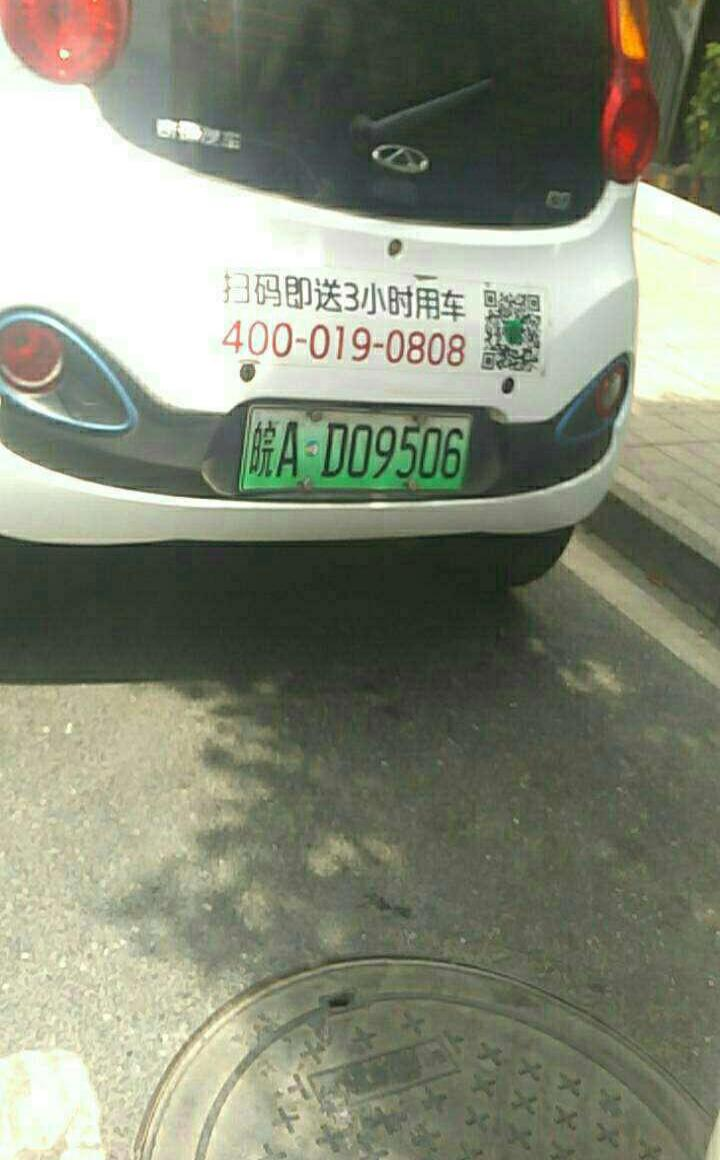car_id: (226, 404, 468, 488)
